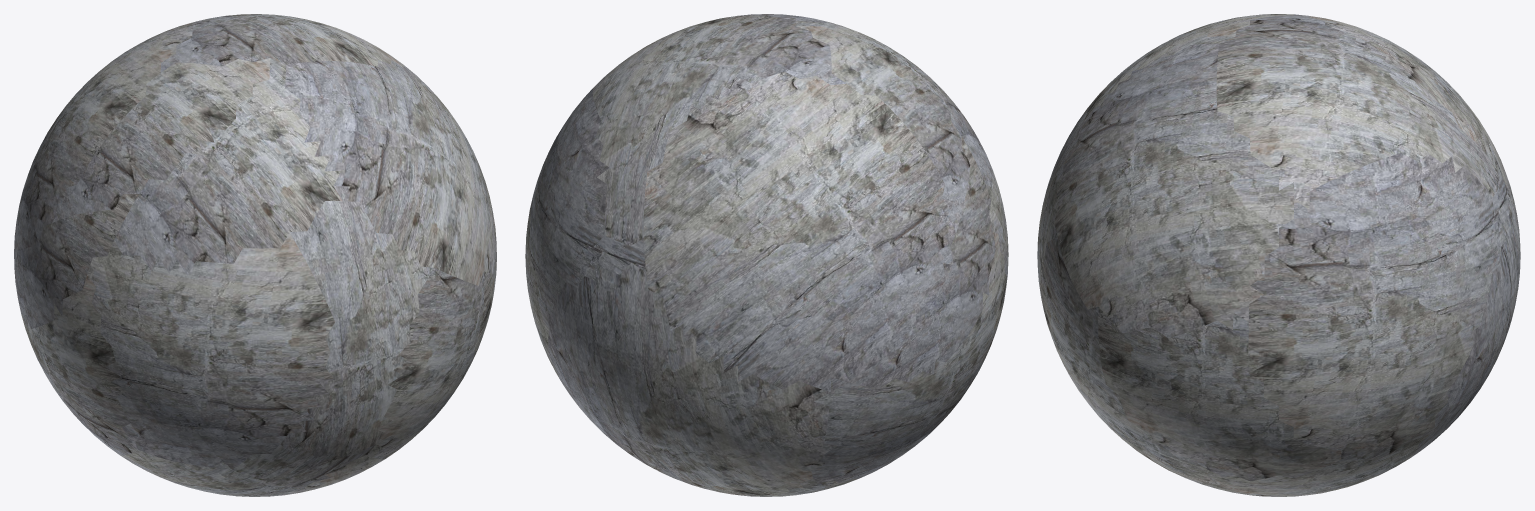
Rendered from ball_lv03.obj.
3 views of the same model, side by side, from view 1: azimuth 30°, elevation 25°; view 2: azimuth 150°, elevation 25°; view 3: azimuth 270°, elevation 25° (orthographic).
Parts seen in each view (by area): view 1: Object.1; view 2: Object.1; view 3: Object.1.
Boxes of the visible parts, left/top/right/bottom form: Object.1: left=14, top=14, right=496, bottom=496; Object.1: left=525, top=14, right=1008, bottom=496; Object.1: left=1037, top=14, right=1520, bottom=496.
Bounding box in the file's own units: 1 × 1 × 1.
1 material, 1 textured.
